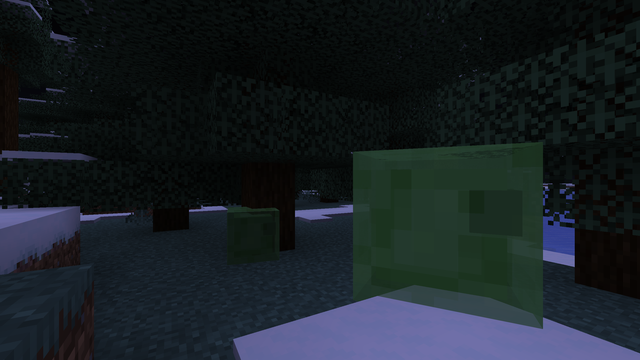slimes: (341, 132, 552, 346), (222, 204, 283, 265)
